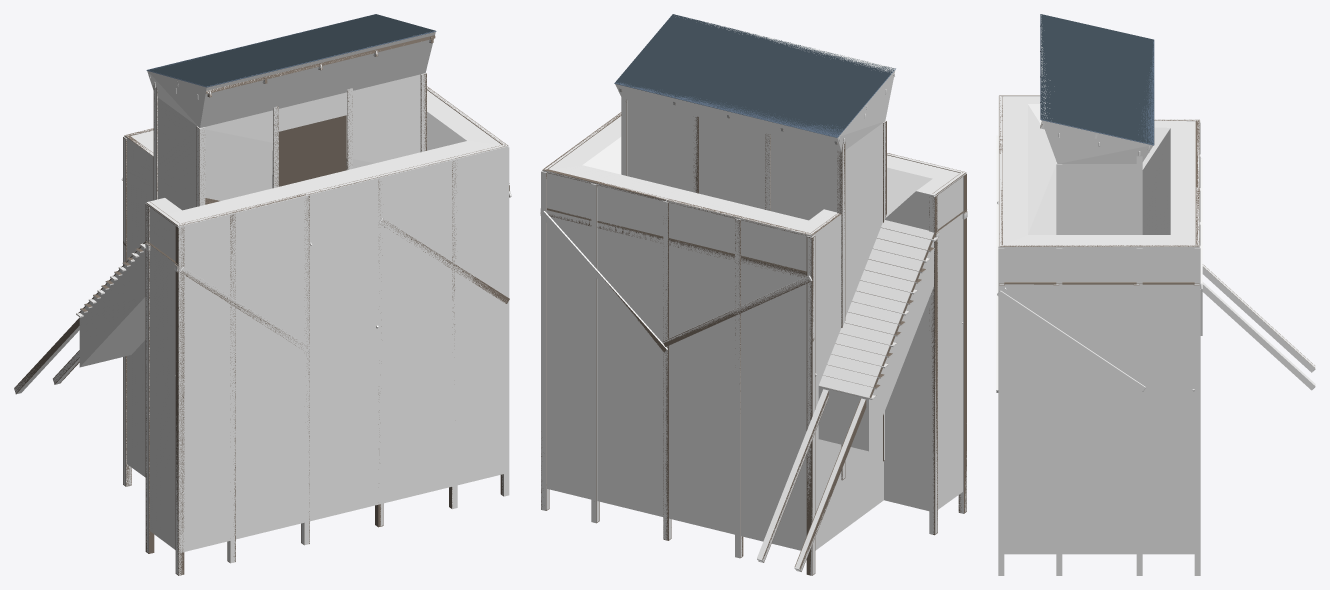
The model's file is si_res_observatory.dae.
3 renders of one model, left to right at view 1: azimuth 30°, elevation 25°; view 2: azimuth 150°, elevation 25°; view 3: azimuth 270°, elevation 25°, orthographic. The views are drawn at different scales.
Visible parts, largest first — view 1: Colmesh-1, si_res_observatory_a120, si_res_observatory_a1000, si_res_observatory_a300, si_res_observatory_a20; view 2: Colmesh-1, si_res_observatory_a120, si_res_observatory_a1000, si_res_observatory_a300; view 3: Colmesh-1, si_res_observatory_a300, si_res_observatory_a120, si_res_observatory_a1000.
Boxes of the visible parts, left/top/right/bottom form: Colmesh-1: left=79, top=31, right=508, bottom=552; si_res_observatory_a120: left=14, top=14, right=509, bottom=575; si_res_observatory_a1000: left=14, top=14, right=511, bottom=574; si_res_observatory_a300: left=16, top=50, right=511, bottom=575; si_res_observatory_a20: left=78, top=115, right=509, bottom=313; Colmesh-1: left=542, top=18, right=962, bottom=550; si_res_observatory_a120: left=540, top=14, right=967, bottom=575; si_res_observatory_a1000: left=540, top=68, right=967, bottom=574; si_res_observatory_a300: left=540, top=72, right=967, bottom=575; Colmesh-1: left=998, top=15, right=1195, bottom=554; si_res_observatory_a300: left=996, top=96, right=1314, bottom=575; si_res_observatory_a120: left=999, top=14, right=1314, bottom=367; si_res_observatory_a1000: left=996, top=14, right=1315, bottom=392.
Size of the model in its own units: 9.08 by 7.95 by 11.9.
